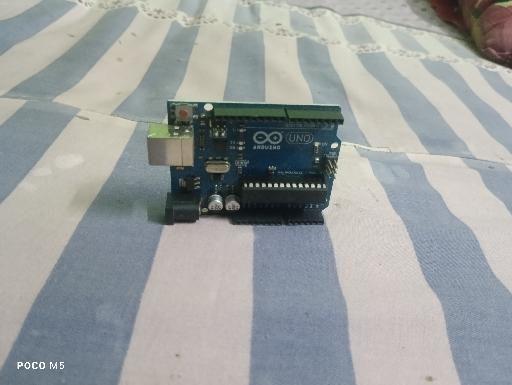Arduino: (146, 99, 345, 227)
